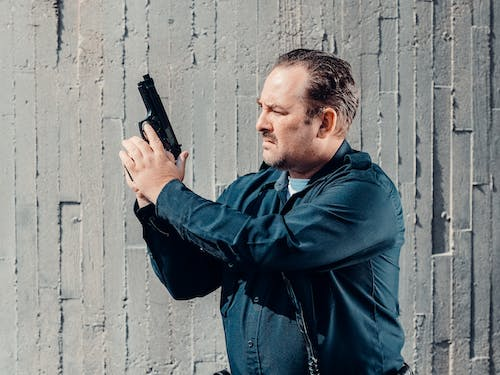gun: (122, 70, 184, 184)
